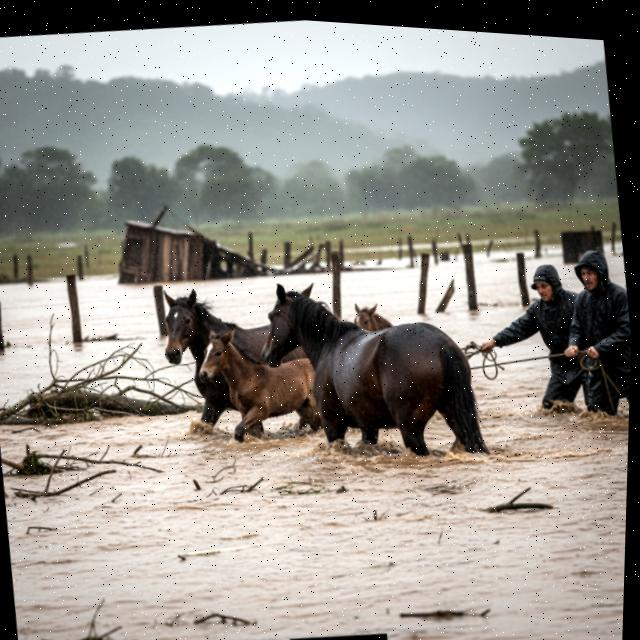civilian: (463, 246, 613, 431), (556, 240, 634, 434)
horse: (248, 255, 513, 494), (154, 266, 324, 444), (184, 305, 335, 458), (343, 284, 404, 342)
